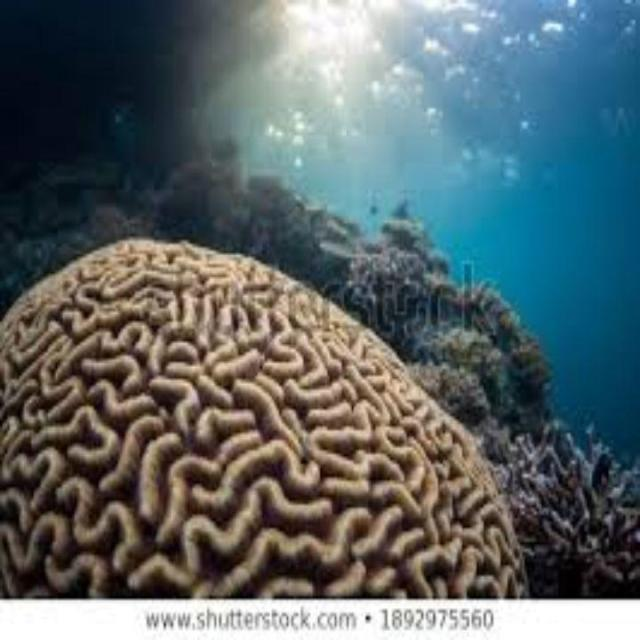Healthy Coral: (3, 225, 531, 593)
